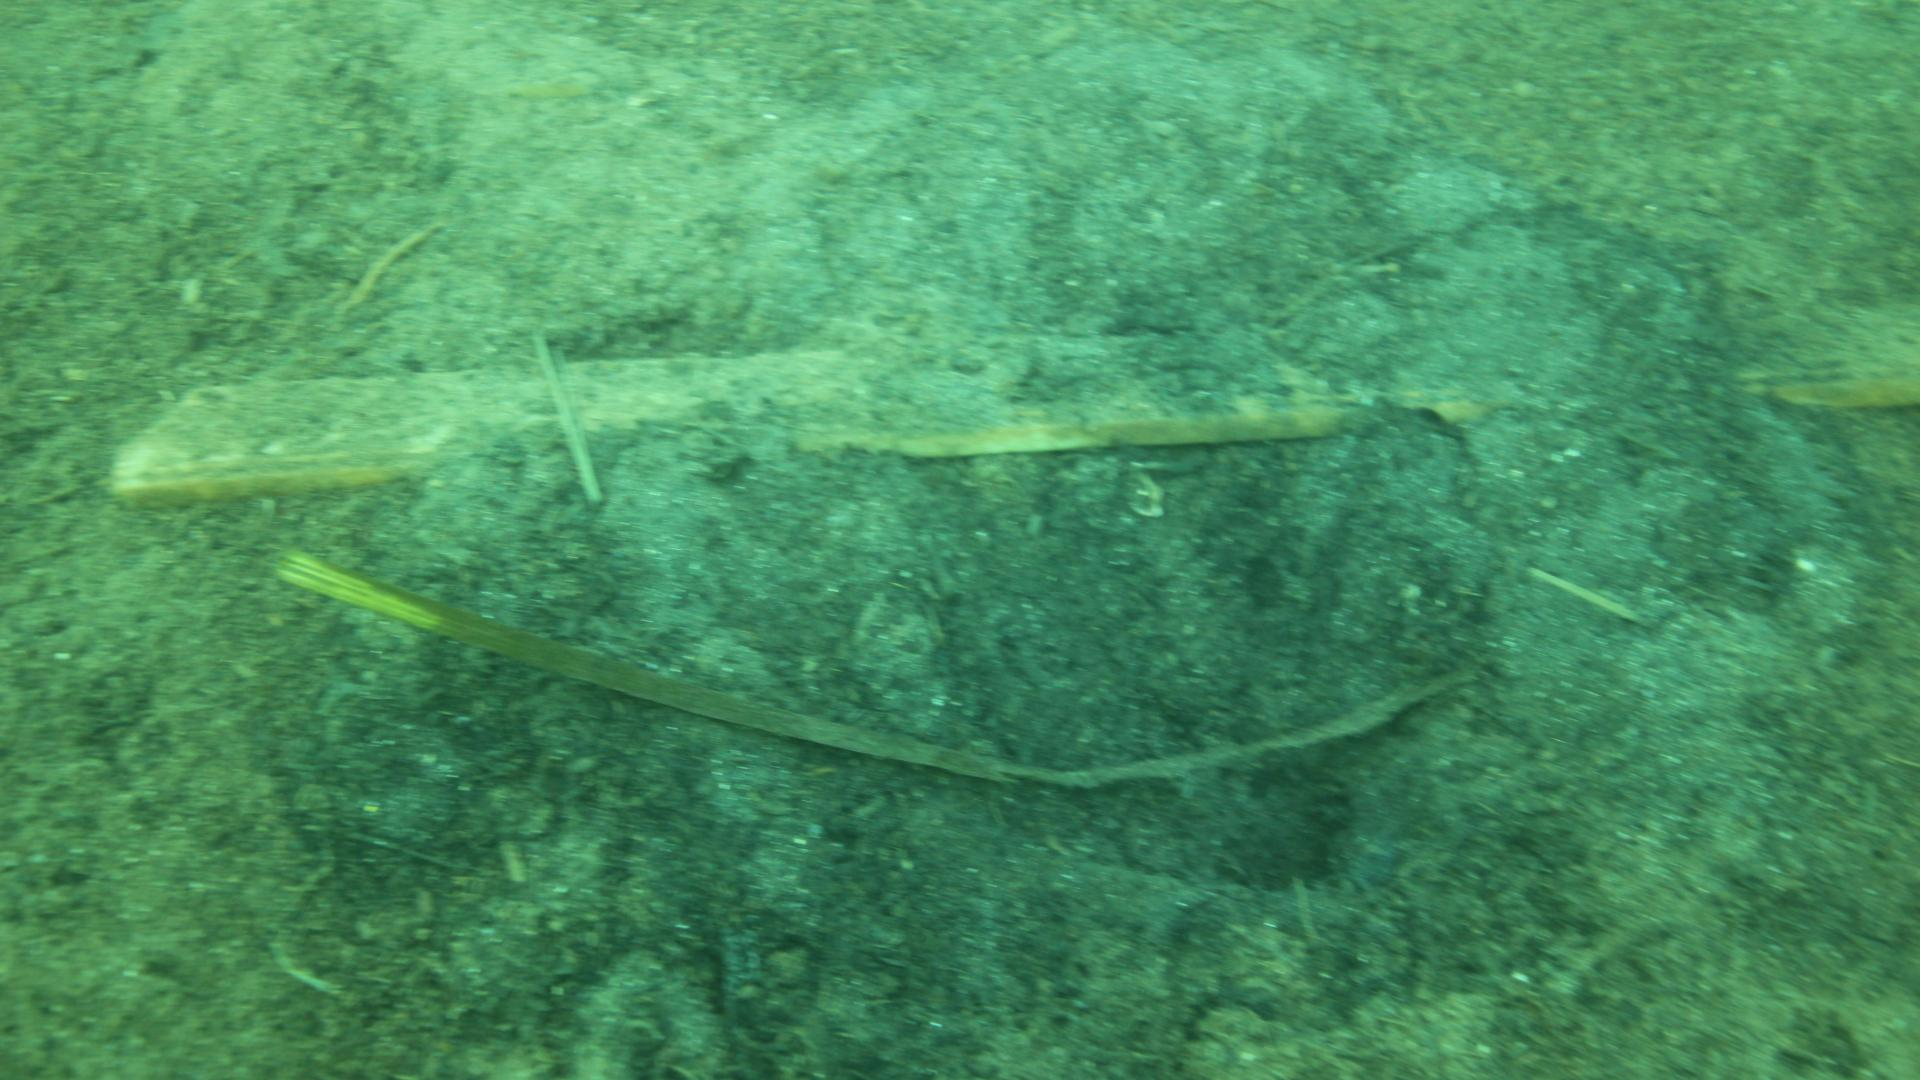wood: (107, 305, 1920, 495)
